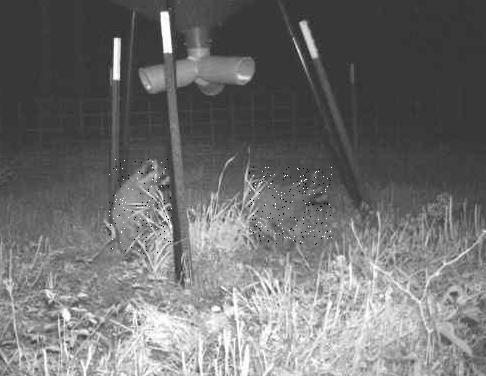Raccoon: (249, 166, 332, 245), (109, 159, 172, 254)
